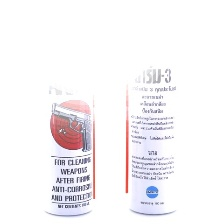aerosol_cans: (38, 4, 98, 219), (124, 3, 183, 219)
